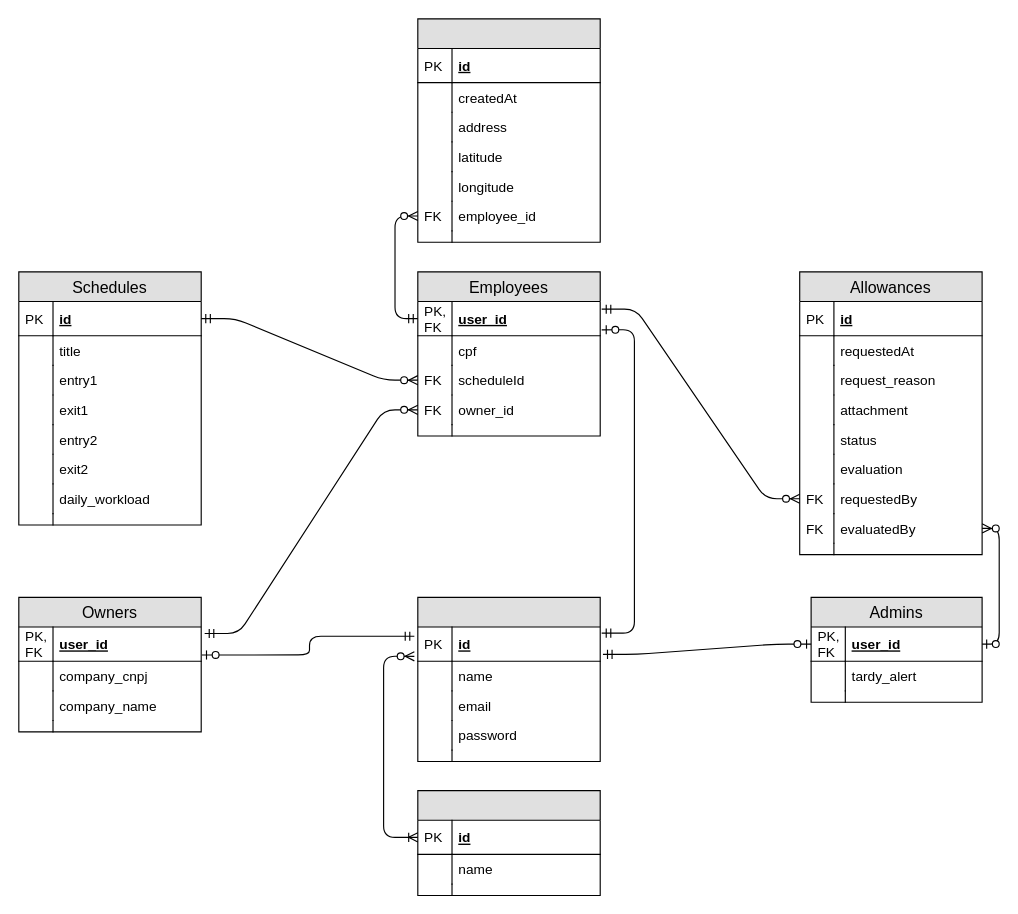
Image size: 1018x914. Some labels were removed from this diagram. The box of each missing label's shape, as (x1, y1, x2, y2) in pixels:
Clocks: (417, 18, 600, 242)
Roles: (417, 789, 600, 895)
Users: (417, 596, 600, 762)
